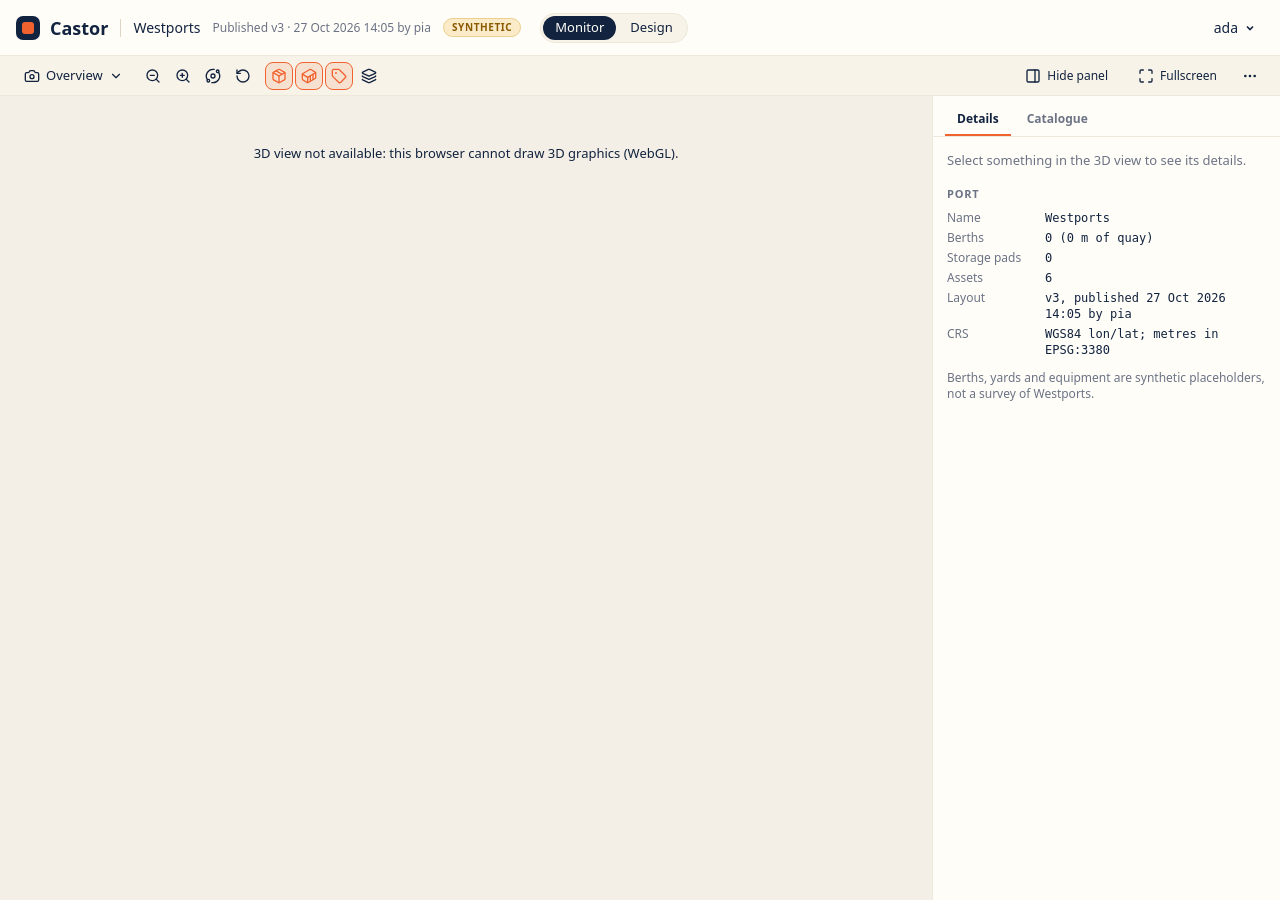
layout › hides and restores the right panel from the tool strip
Expected: the element named "Right panel" is shown, [932, 96, 1279, 899]
Click the button "Hide panel": (1067, 76) [1014, 64, 1119, 88]
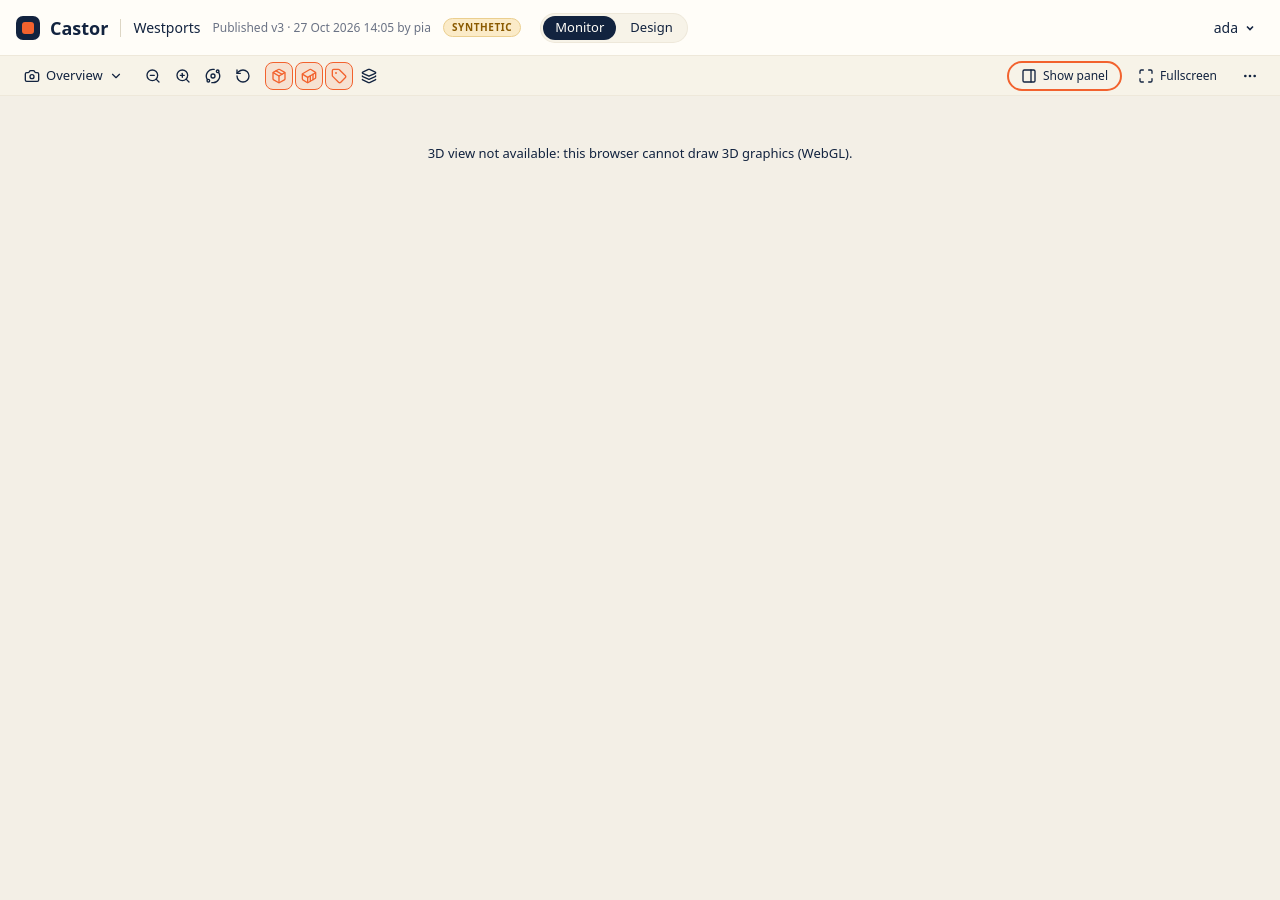
Result: the field labelled "Right panel" is gone
Click the button "Show panel": (1064, 76) [1010, 64, 1119, 88]
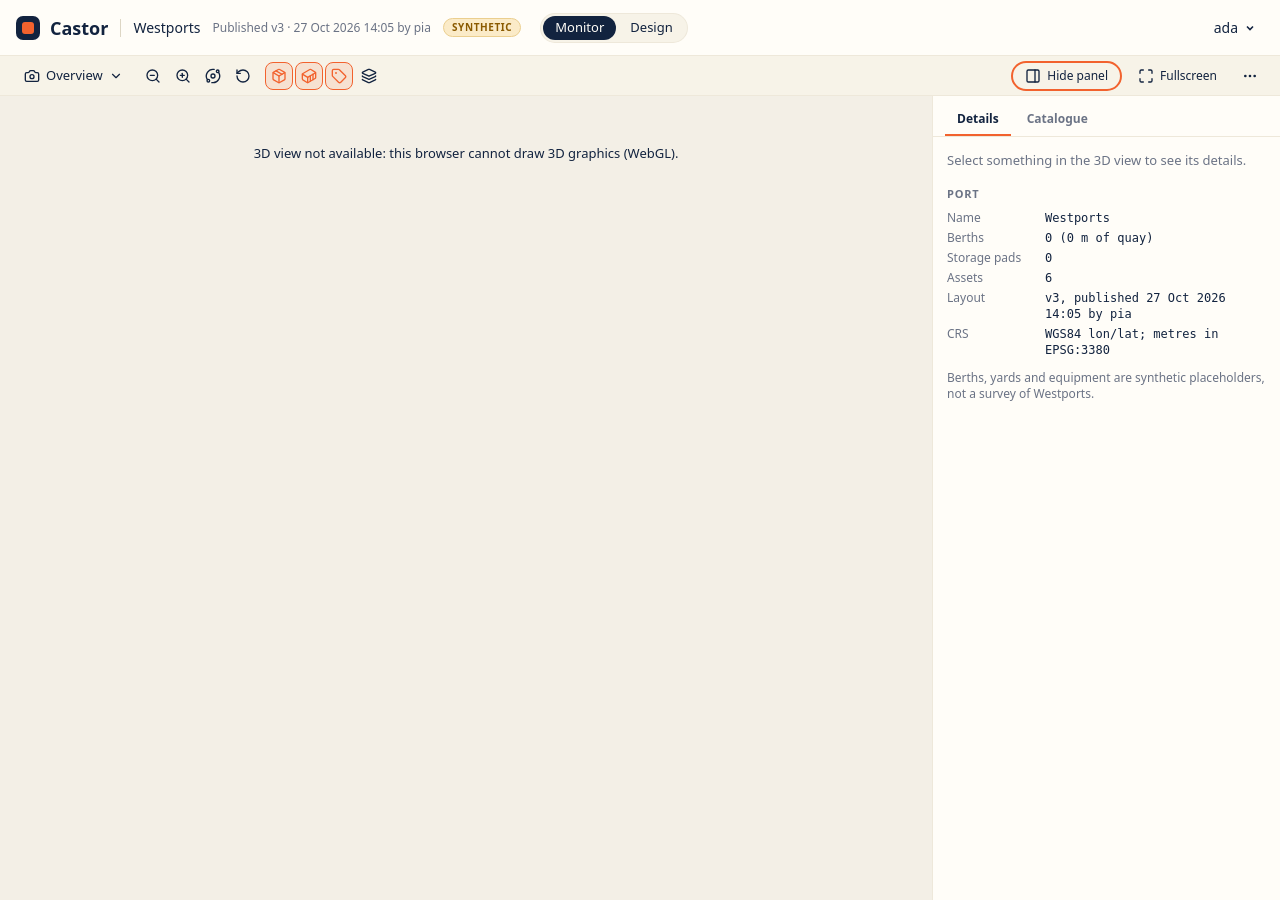
Result: the element named "Right panel" is shown at [932, 96, 1279, 899]
